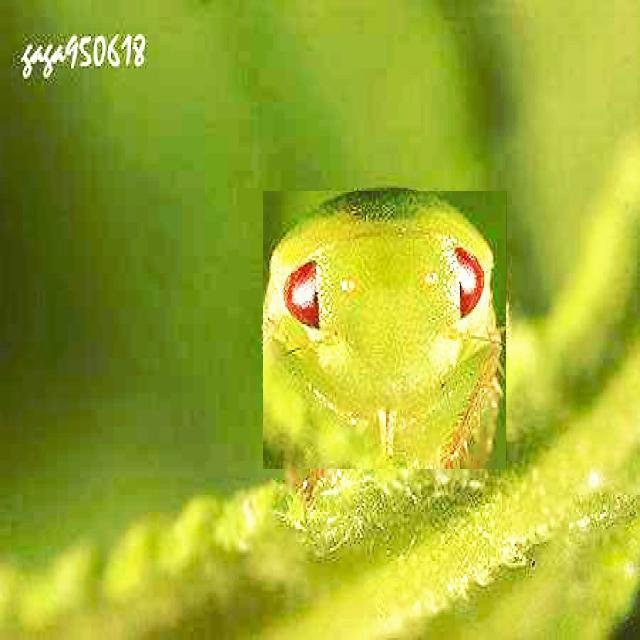green-leafhopper: (264, 191, 508, 469)
